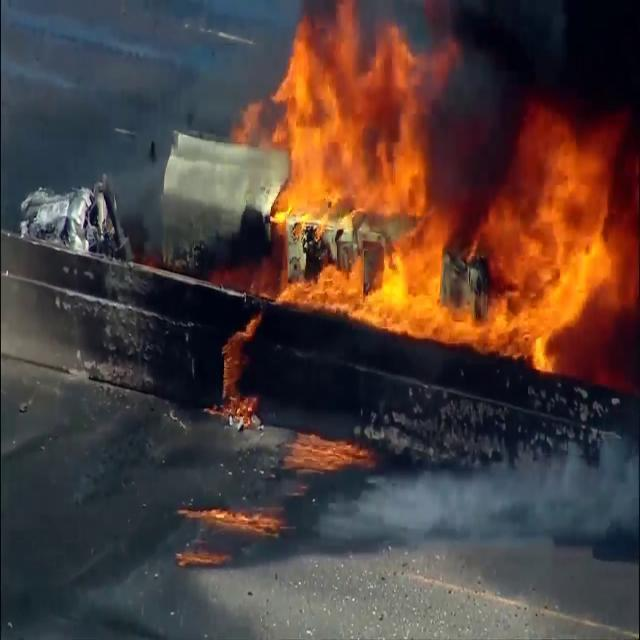Fire: (242, 8, 640, 388)
